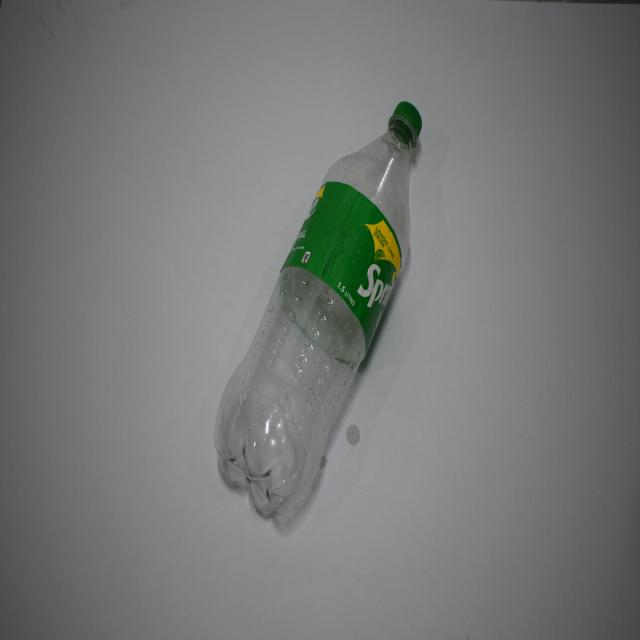bottle: (213, 97, 424, 520)
